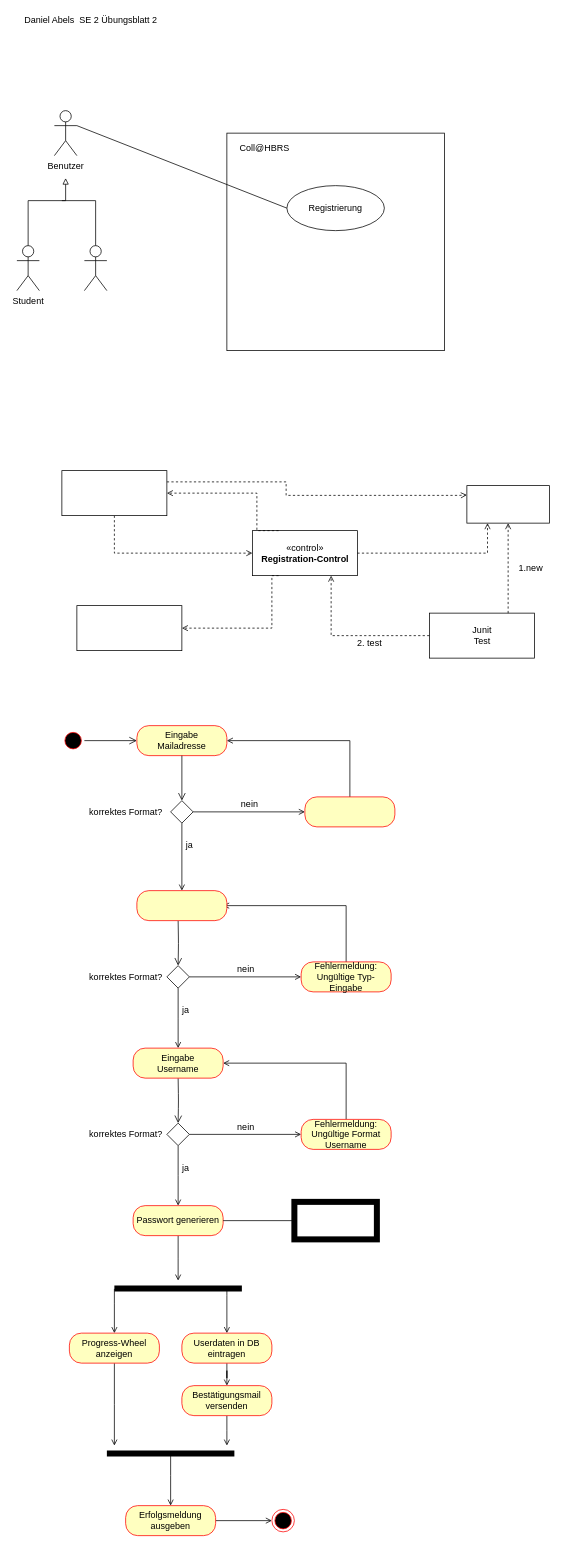
This 563x1549 diagram has some shape labels left out. Here are the shapes that lost their labels. From the top down, the centre of each, then its label:
At point (95, 268): "Unternehmer".
At point (114, 493): "«boundary» Reg. Dialog".
At point (507, 504): "«dto» User DTO".
At point (129, 628): "«entity» User".
At point (349, 811): "Fehlermeldung: Ungültiges Format E-Mail".
At point (181, 905): "Eingabe Typ(Unternehmer oder Student)".
At point (335, 1220): "Object:Speicher".
